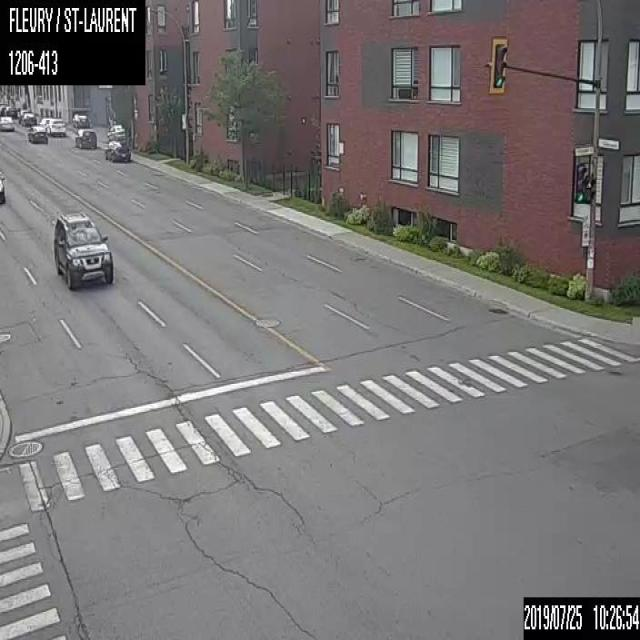vehicle: (52, 209, 113, 288), (103, 139, 131, 161), (73, 127, 97, 148), (44, 117, 66, 136), (27, 124, 47, 144), (106, 123, 125, 138), (72, 113, 88, 127), (20, 111, 36, 125), (0, 115, 14, 130), (0, 169, 5, 204), (4, 106, 16, 115)
